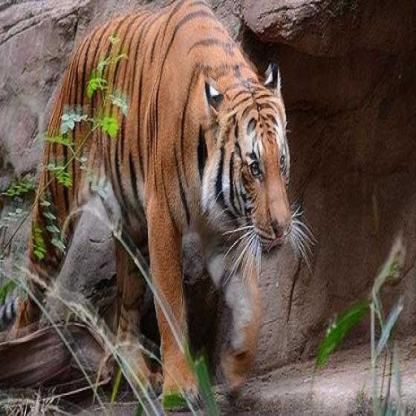Tiger: (5, 1, 317, 389)
